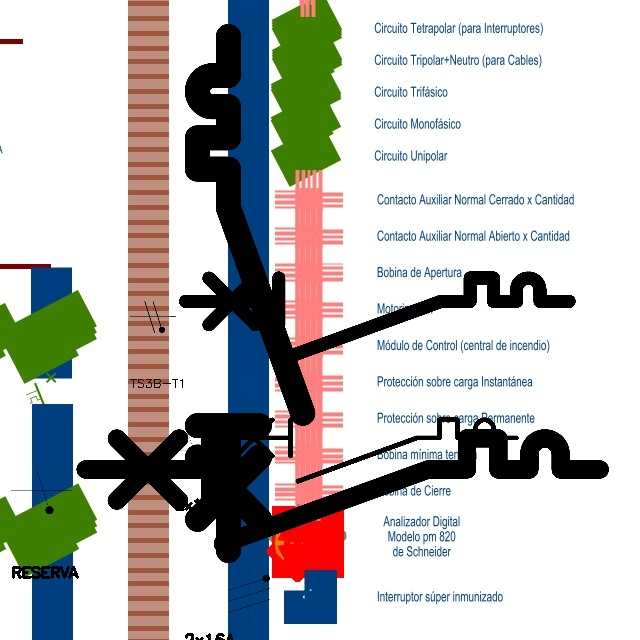interruptor_termomagnetico: (184, 23, 316, 563), (72, 425, 612, 557), (175, 268, 578, 366), (210, 412, 524, 488)
